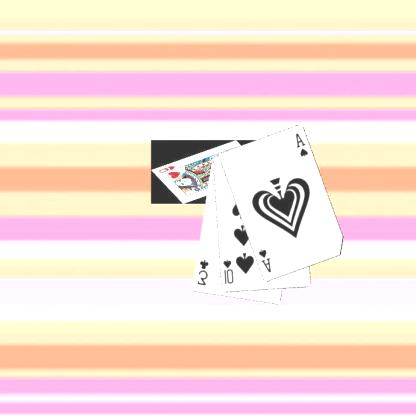10S: (222, 257, 236, 286)
3C: (196, 257, 212, 287)
AS: (294, 130, 311, 159), (257, 246, 274, 274)
